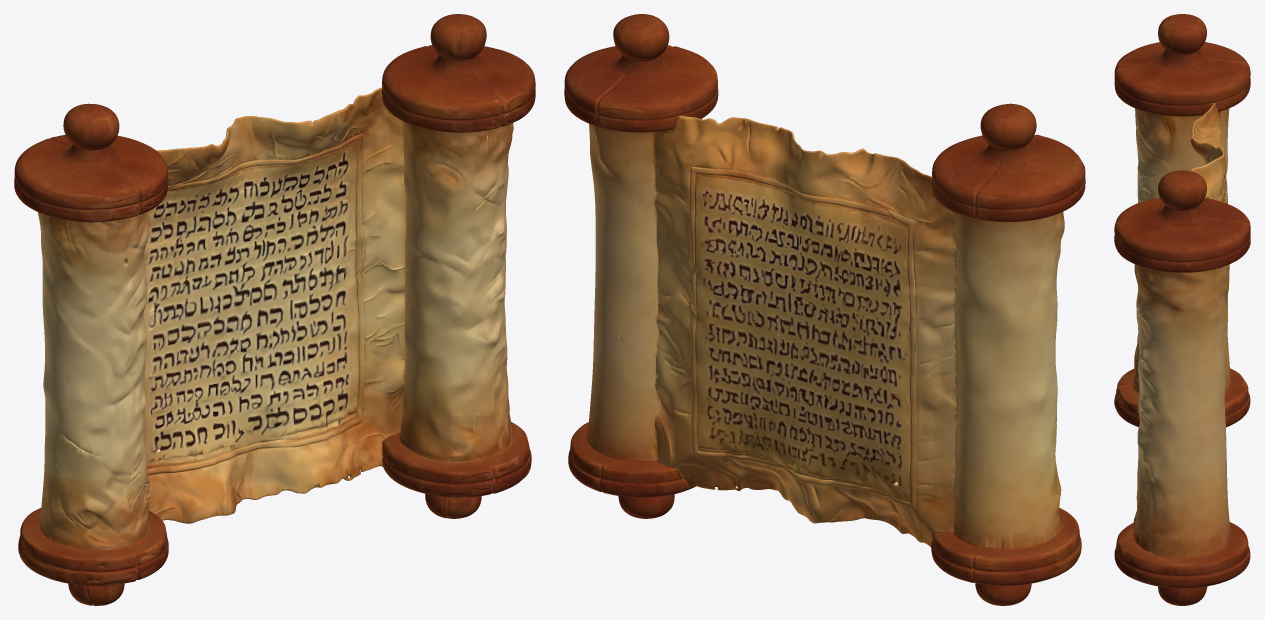
File: torah-scroll.glb
3 views of the same model, side by side, from view 1: azimuth 30°, elevation 25°; view 2: azimuth 150°, elevation 25°; view 3: azimuth 270°, elevation 25° (orthographic). The views are drawn at different scales.
Visible parts, largest first — view 1: tripo_node_51e48db1-c3d2-4a4a-99c7-1a8090aaa31b; view 2: tripo_node_51e48db1-c3d2-4a4a-99c7-1a8090aaa31b; view 3: tripo_node_51e48db1-c3d2-4a4a-99c7-1a8090aaa31b.
Boxes of the visible parts, x1,y1,x2,y2 form: tripo_node_51e48db1-c3d2-4a4a-99c7-1a8090aaa31b: (14,14,535,605); tripo_node_51e48db1-c3d2-4a4a-99c7-1a8090aaa31b: (564,14,1085,605); tripo_node_51e48db1-c3d2-4a4a-99c7-1a8090aaa31b: (1114,14,1250,605).
Bounding box in the file's own units: 0.9777 × 0.9159 × 0.265.
1 material, 1 textured.
